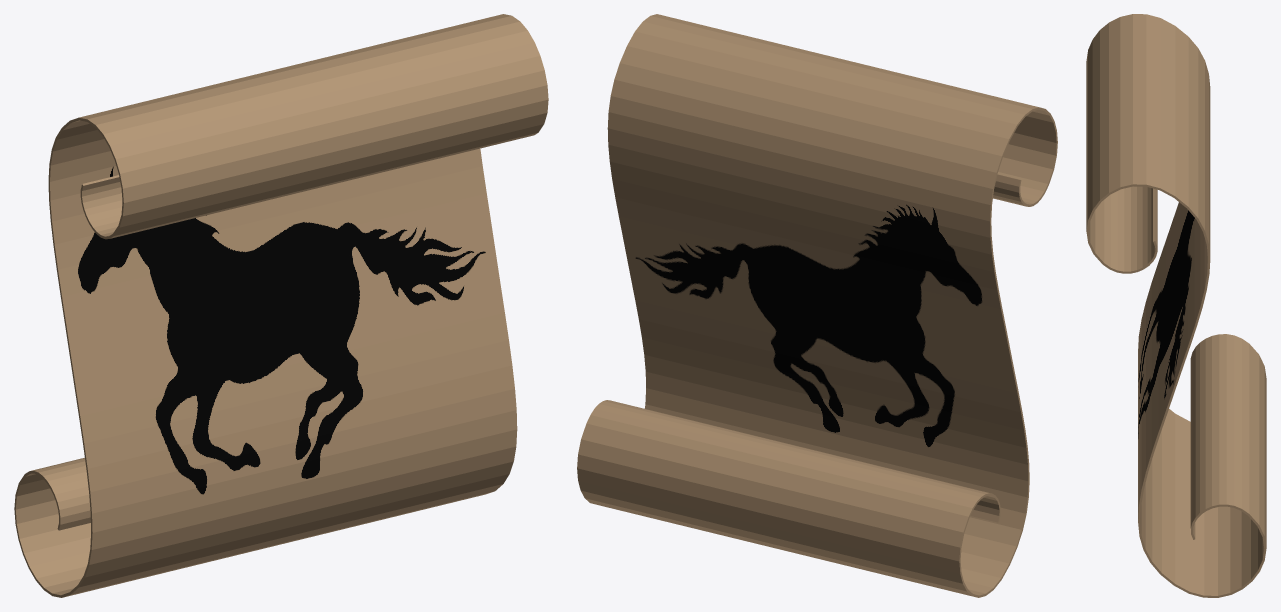
Rendered from Horse-Puwerup.fbx.
3 views of the same model, side by side, from view 1: azimuth 30°, elevation 25°; view 2: azimuth 150°, elevation 25°; view 3: azimuth 270°, elevation 25° (orthographic). The views are drawn at different scales.
Parts seen in each view (by area): view 1: Horse; view 2: Horse; view 3: Horse.
Boxes of the visible parts, box(x1,y1,x2,y2) form: Horse: box(14, 14, 548, 597); Horse: box(577, 14, 1057, 597); Horse: box(1086, 14, 1266, 597).
Bounding box in the file's own units: 176 × 199 × 78.51.
1 material, 1 textured.
